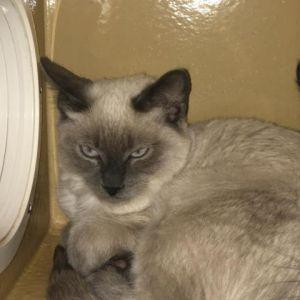siamese: (32, 47, 205, 227)
